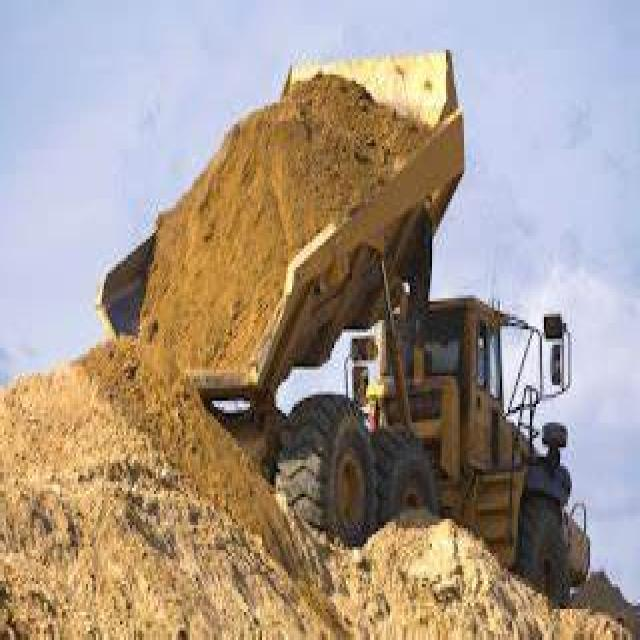dump_truck: (88, 41, 596, 594)
